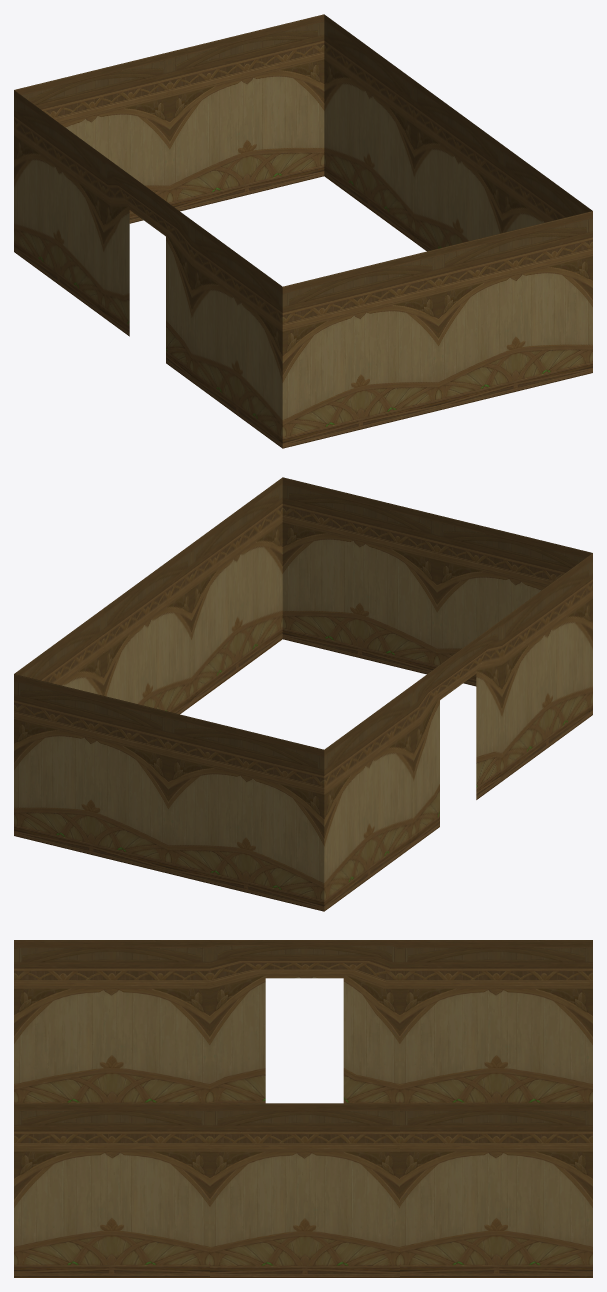
Rendered from Homeworld_Interior_Xm_Room_B_Filling_01_Vo.fbx.
3 renders of one model, top to bottom at view 1: azimuth 30°, elevation 25°; view 2: azimuth 150°, elevation 25°; view 3: azimuth 270°, elevation 25°, orthographic. The views are drawn at different scales.
Parts seen in each view (by area): view 1: Homeworld_Interior_Xm_Room_B_Filling_01_Vo; view 2: Homeworld_Interior_Xm_Room_B_Filling_01_Vo; view 3: Homeworld_Interior_Xm_Room_B_Filling_01_Vo.
Part boxes in pixels (x1,y1,x2,y2): Homeworld_Interior_Xm_Room_B_Filling_01_Vo: (14, 14, 592, 448); Homeworld_Interior_Xm_Room_B_Filling_01_Vo: (14, 477, 592, 911); Homeworld_Interior_Xm_Room_B_Filling_01_Vo: (14, 940, 592, 1277).
Bounding box in the file's own units: 9.98 × 4.98 × 14.97.
